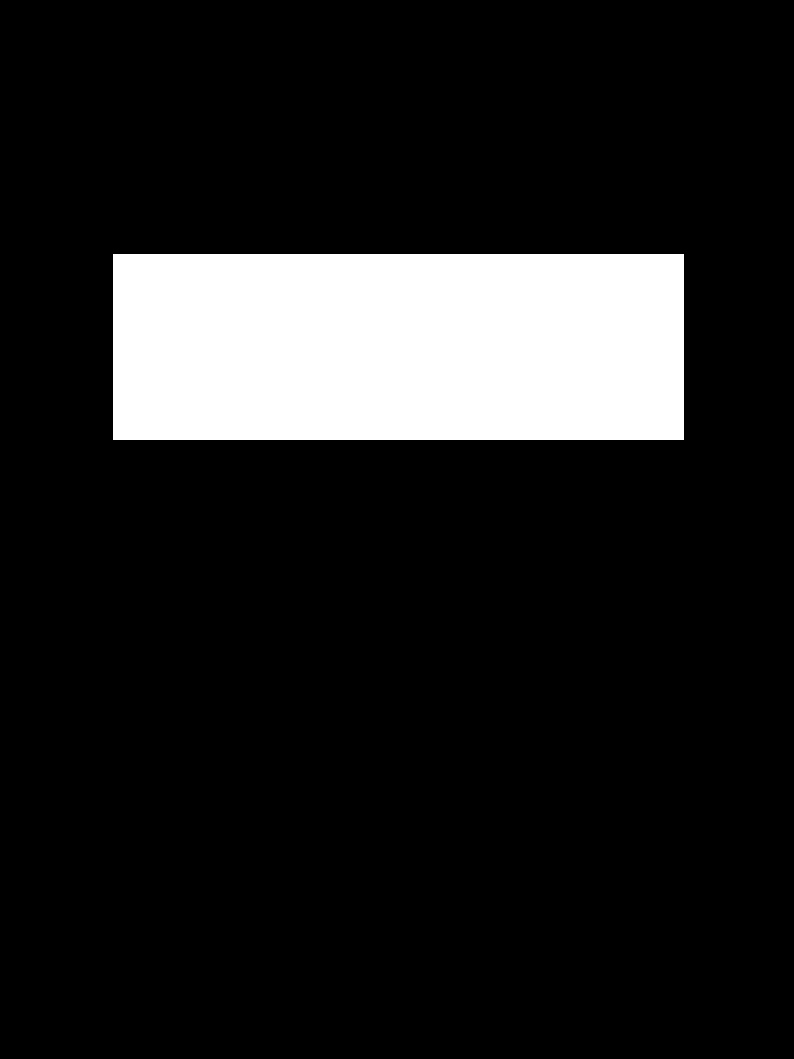table: (113, 254, 683, 439)
